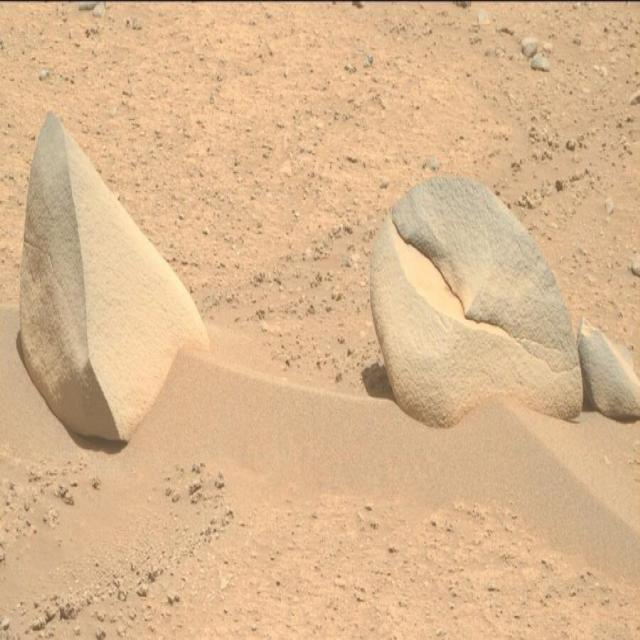stone: (20, 115, 208, 440), (370, 177, 584, 425), (578, 319, 639, 419)
white-sand: (0, 4, 639, 393), (0, 309, 639, 639)
